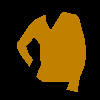maglia: (16, 11, 86, 92)
